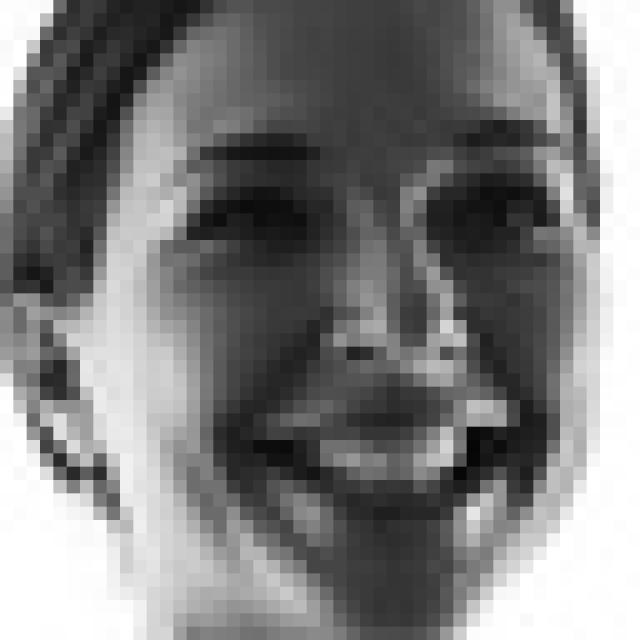happy: (161, 115, 576, 540)
